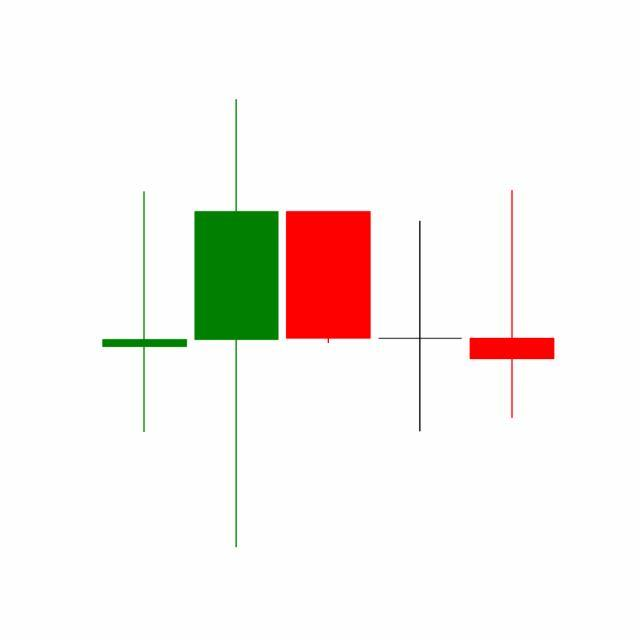Spinning Top: (466, 188, 559, 421)
